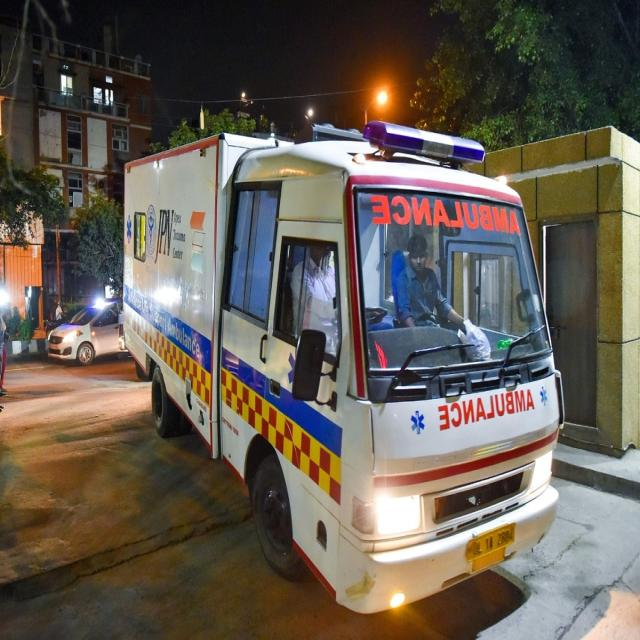Ambulance: (109, 104, 589, 629)
